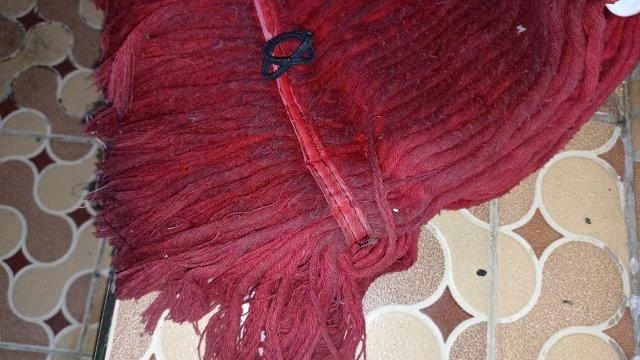karet: (261, 31, 316, 81)
